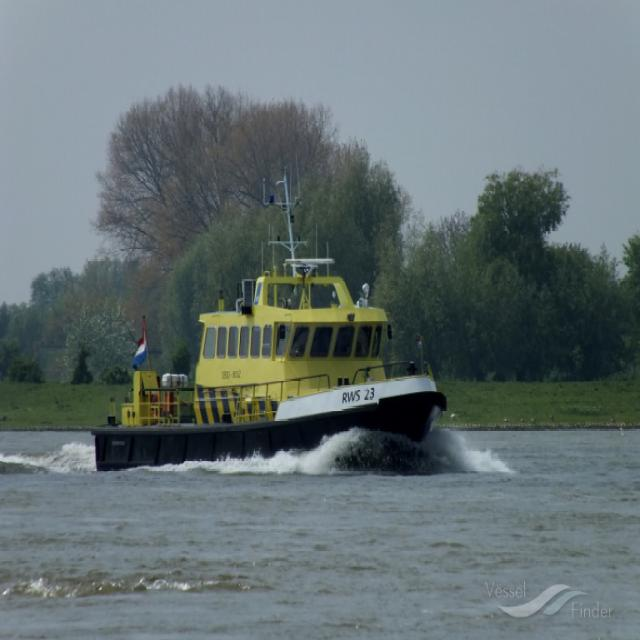OCR: (333, 386, 378, 408)
